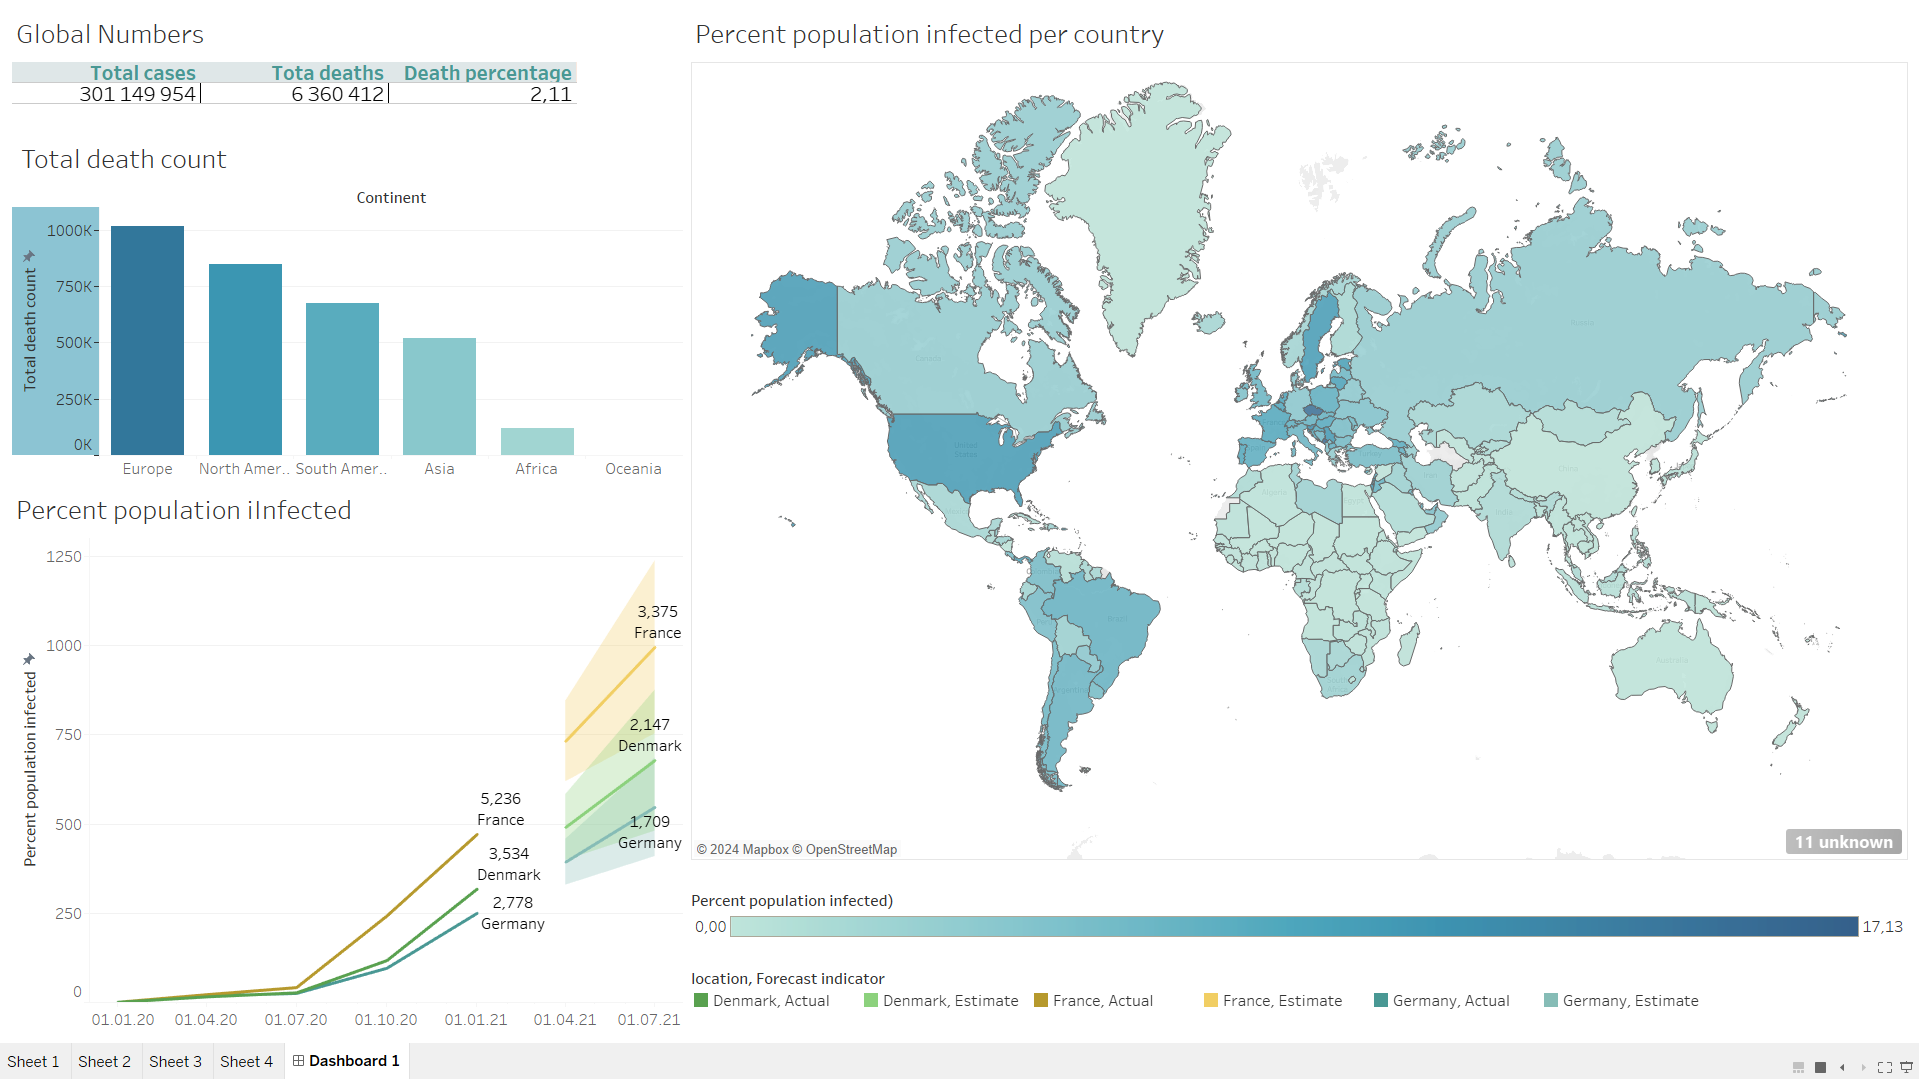

What the dashboard file says about the page in this screenshot:
{"tool":"tableau","page":{"name":"Dashboard 1","canvas":[1000,1000],"units":"permille","ordinal":0},"visuals":[{"type":"worksheet","title":"Sheet 1","mark":"Automatic","box":[4.8,9.4,395.9,156.3]},{"type":"worksheet","title":"Sheet 3","mark":"Automatic","box":[400.7,9.4,594.5,839]},{"type":"worksheet","title":"Sheet 2","mark":"Automatic","rows":["TotalDeathCount"],"cols":["location"],"box":[4.8,165.7,395.9,333.7]},{"type":"worksheet","title":"Sheet 4","mark":"Automatic","rows":["PercentagePopulationInfected"],"cols":["date"],"box":[4.8,499.4,395.9,491.2]},{"type":"legend","title":"Sheet 3","param":"[federated.0ovzmdi0dsr53b10wrzn71i37eri].[sum:PercentagePopelationInfected:qk]","box":[400.7,848.4,594.5,74]},{"type":"legend","title":"Sheet 4","param":"[federated.15xqhtc0qfcvlh17vz5lo0hxi40i].[none:location:nk]\n[federated.15xqhtc0q","box":[400.7,922.4,594.5,68.2]}]}

Visuals, with their boxes on the dashboard's canvas, which has no fixed pixel size, in thousandths of its width and height (x1, y1, x2, y2). These are canvas units, not pixel positions in the 1919x1079 screenshot, which may show the page scaled, cropped or inside an application window:
"Sheet 1" worksheet: 5, 9, 401, 166
"Sheet 3" worksheet: 401, 9, 995, 848
"Sheet 2" worksheet: 5, 166, 401, 499
"Sheet 4" worksheet: 5, 499, 401, 991
"Sheet 3" legend: 401, 848, 995, 922
"Sheet 4" legend: 401, 922, 995, 991
